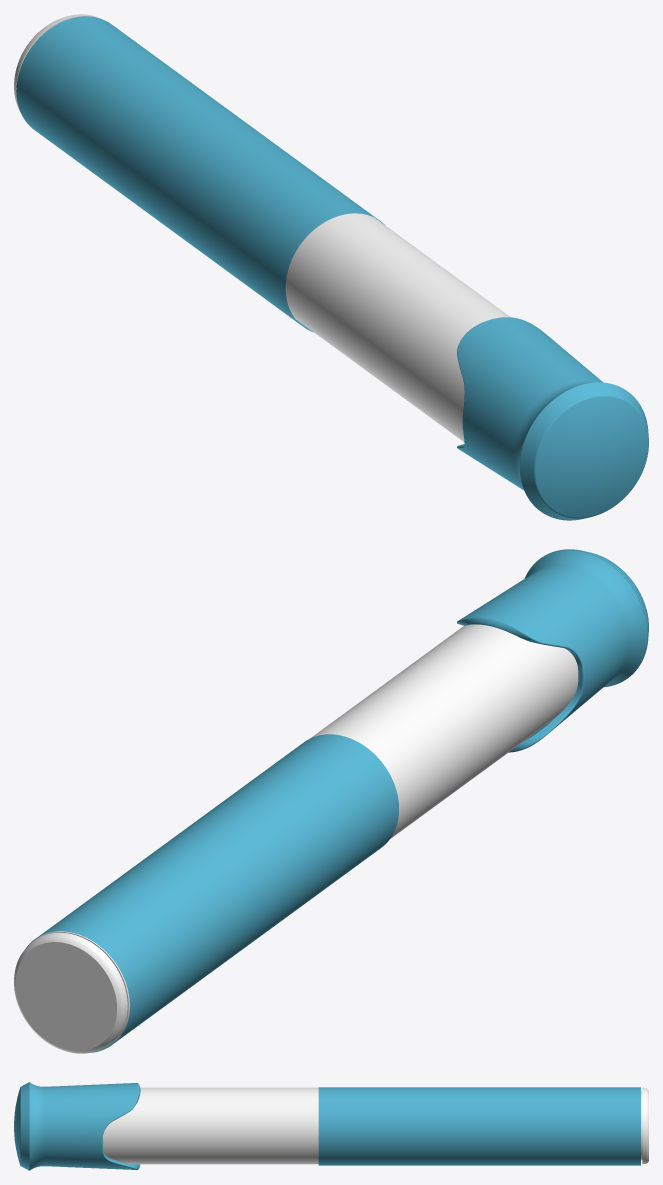
File: cap3.glb
3 views of the same model, one above another, from view 1: azimuth 30°, elevation 25°; view 2: azimuth 150°, elevation 25°; view 3: azimuth 270°, elevation 25° (orthographic). The views are drawn at different scales.
Parts seen in each view (by area): view 1: Label, Body; view 2: Label, Body; view 3: Label, Body.
Part boxes in pixels (left/top/right/bottom): Label: left=16, top=16, right=648, bottom=520; Body: left=14, top=14, right=510, bottom=441; Label: left=26, top=549, right=648, bottom=1052; Body: left=14, top=624, right=578, bottom=1053; Label: left=14, top=1082, right=640, bottom=1170; Body: left=103, top=1087, right=648, bottom=1164.
Bounding box in the file's own units: 2.72 × 2.72 × 19.45.
Materials: 2 (1 with a texture image).
